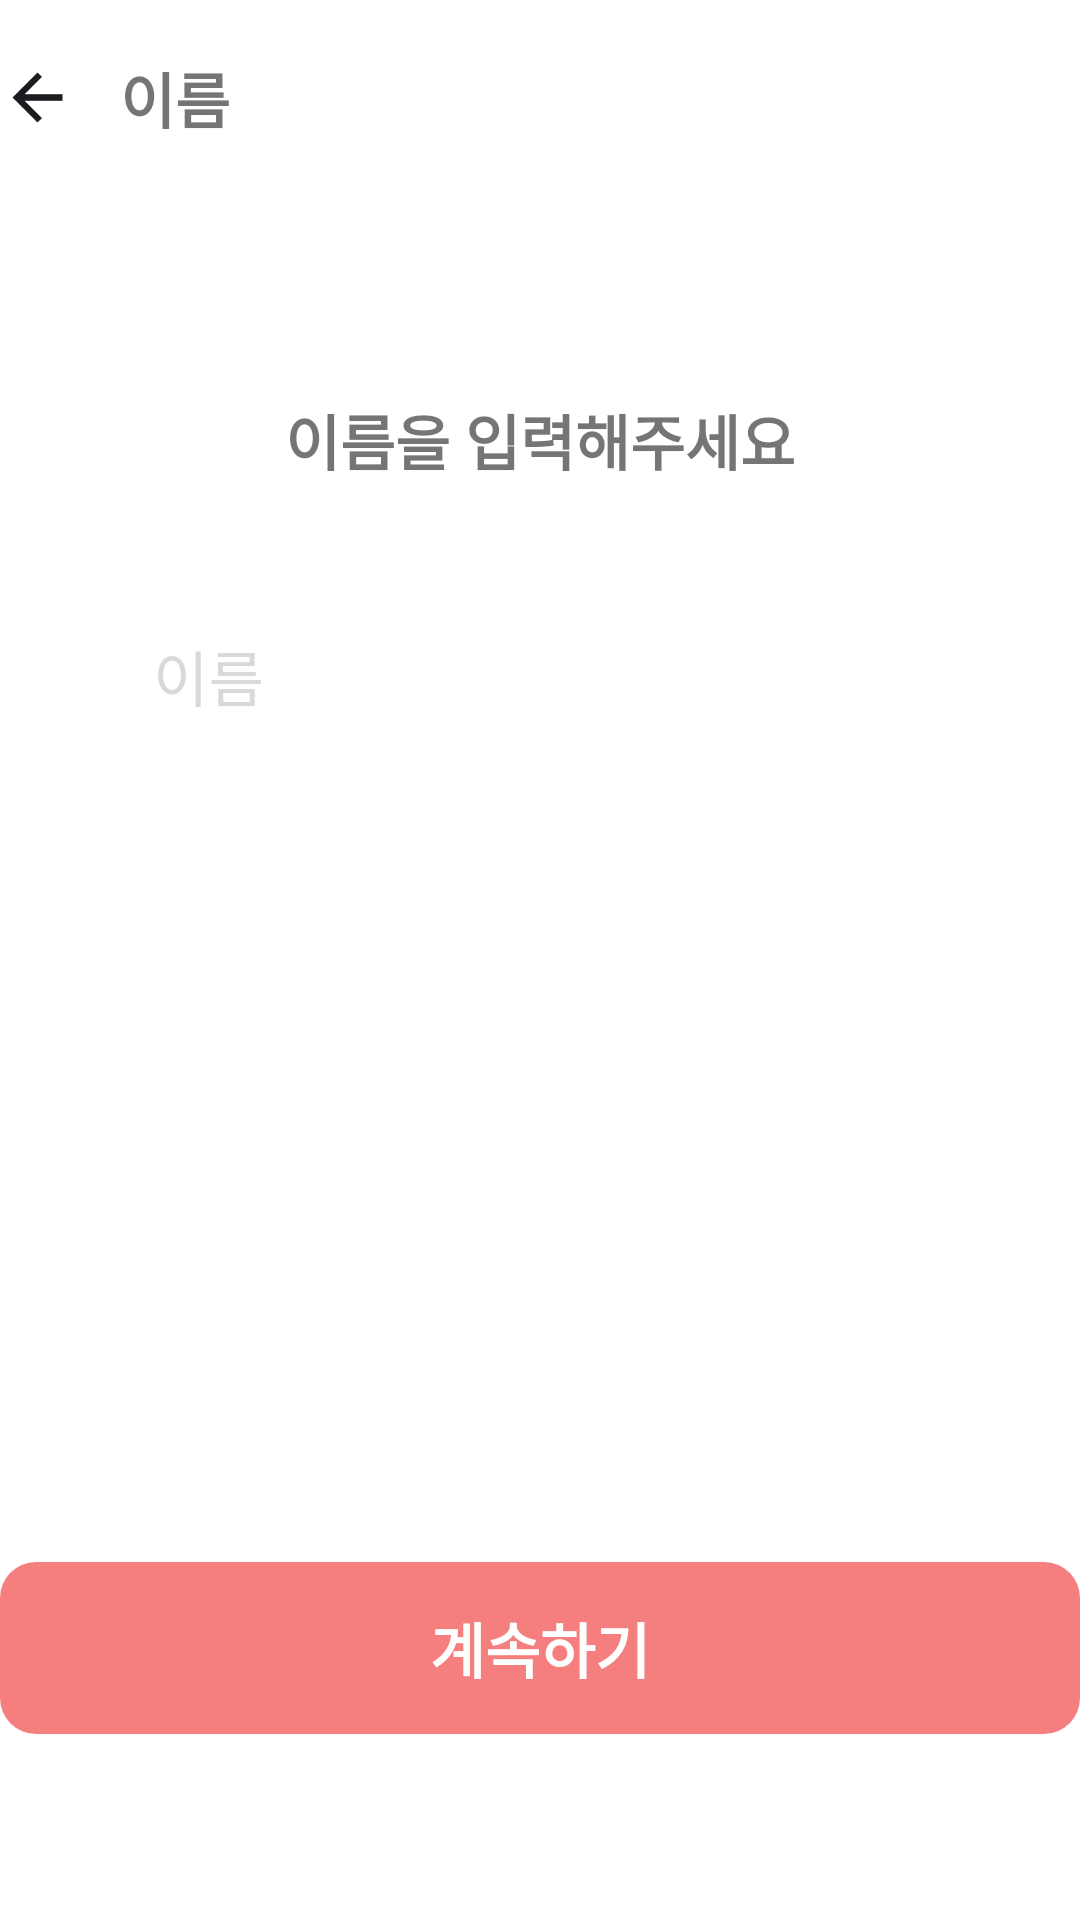

Named icons in this screenshot (1080px x 1920px) and their centers, (x,y):
back: (37,97)
